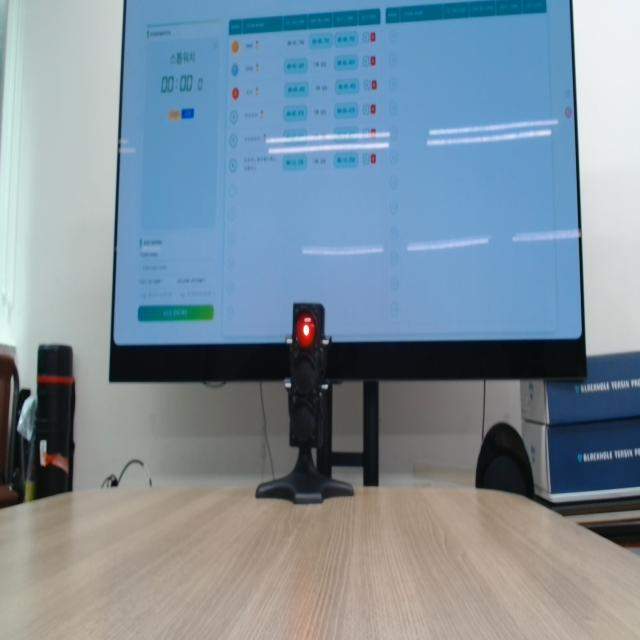red_light: (296, 314, 316, 349)
